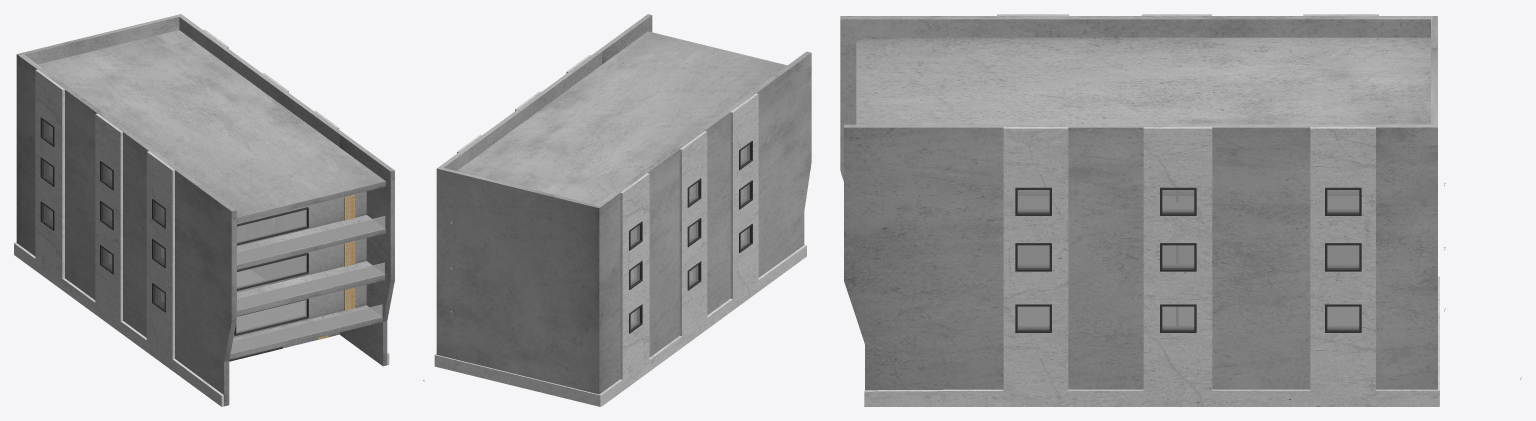
Rendered from EDIF.2.fbx.
The picture shows the model from 3 angles, left to right: view 1: azimuth 30°, elevation 25°; view 2: azimuth 150°, elevation 25°; view 3: azimuth 270°, elevation 25°; orthographic projection. The views are drawn at different scales.
Visible parts, largest first — view 1: pasted__EDIFICIO, pasted__pasted__extra, pasted__VARANDA_EDIFICIO, pasted__VARANDA_EDIFICIO2, pasted__VARANDA_EDIFICIO1, pasted__pCube46, pasted__pCube45, pasted__pCube44; view 2: pasted__EDIFICIO, pasted__pasted__extra; view 3: pasted__EDIFICIO, pasted__pasted__extra, pasted__pCube17, pasted__pCube20, pasted__pCube22, pasted__pCube19, pasted__pCube25, pasted__pCube21, pasted__pCube23, pasted__pCube24, pasted__pCube18.
Boxes of the visible parts, <box> form: pasted__EDIFICIO: <box>16,14,394,406</box>; pasted__pasted__extra: <box>14,29,389,406</box>; pasted__VARANDA_EDIFICIO: <box>230,304,382,353</box>; pasted__VARANDA_EDIFICIO2: <box>237,216,385,264</box>; pasted__VARANDA_EDIFICIO1: <box>237,262,384,310</box>; pasted__pCube46: <box>237,207,308,245</box>; pasted__pCube45: <box>237,252,308,290</box>; pasted__pCube44: <box>234,299,308,335</box>; pasted__EDIFICIO: <box>436,14,811,394</box>; pasted__pasted__extra: <box>434,55,806,406</box>; pasted__EDIFICIO: <box>840,16,1437,390</box>; pasted__pasted__extra: <box>864,14,1439,406</box>; pasted__pCube17: <box>1015,304,1051,332</box>; pasted__pCube20: <box>1160,243,1196,271</box>; pasted__pCube22: <box>1160,304,1196,332</box>; pasted__pCube19: <box>1015,187,1051,215</box>; pasted__pCube25: <box>1325,304,1361,332</box>; pasted__pCube21: <box>1160,187,1196,215</box>; pasted__pCube23: <box>1325,243,1361,271</box>; pasted__pCube24: <box>1325,187,1361,215</box>; pasted__pCube18: <box>1015,243,1051,271</box>.
Size of the model in its own units: 1558 by 1750 by 3874.
